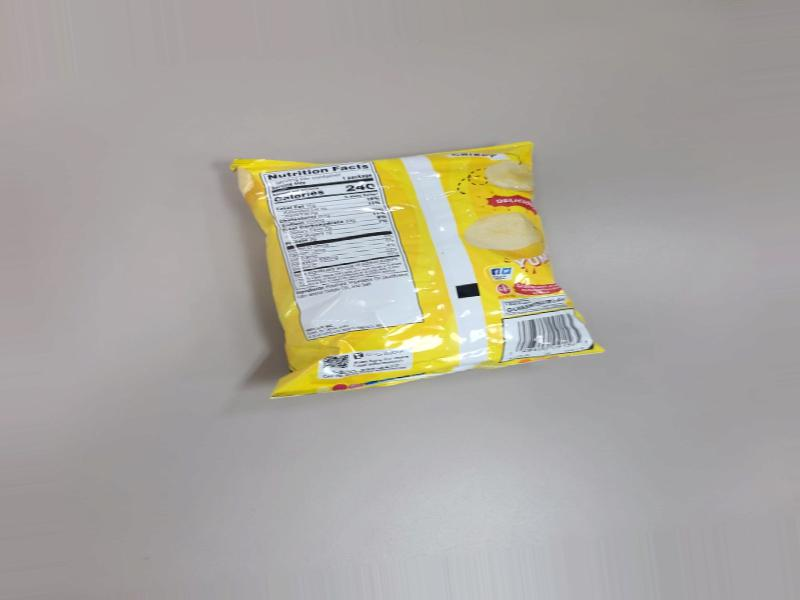lays: (243, 175, 617, 408)
